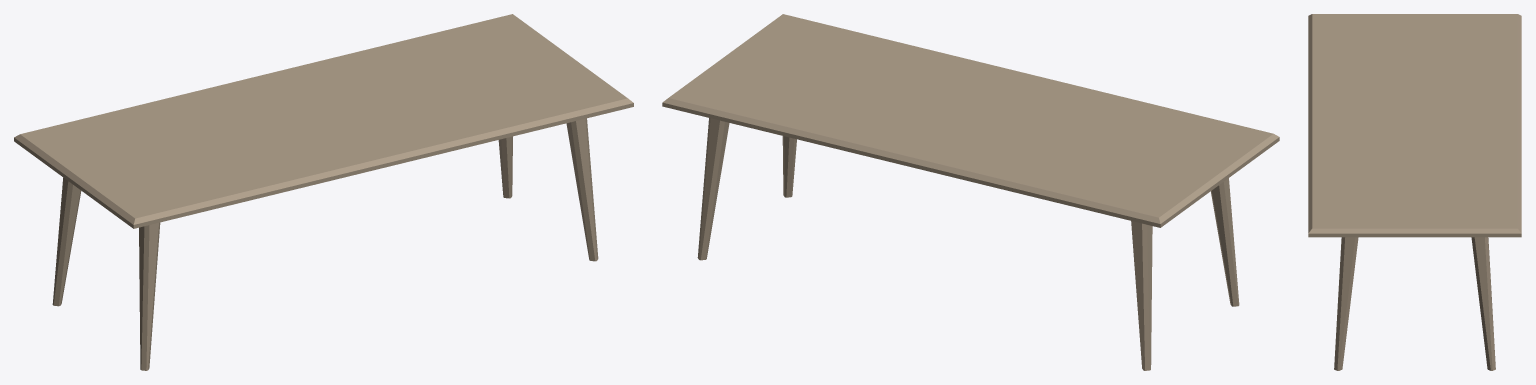
Rendered from Wooden Desk.fbx.
3 renders of one model, left to right at view 1: azimuth 30°, elevation 25°; view 2: azimuth 150°, elevation 25°; view 3: azimuth 270°, elevation 25°, orthographic. The views are drawn at different scales.
Visible parts, largest first — view 1: pCube49; view 2: pCube49; view 3: pCube49.
Boxes of the visible parts, box(x1,y1,x2,y2) form: pCube49: box(14, 14, 633, 370); pCube49: box(662, 14, 1279, 370); pCube49: box(1308, 14, 1521, 370).
Size of the model in its own units: 2.63 by 0.8398 by 1.09.
